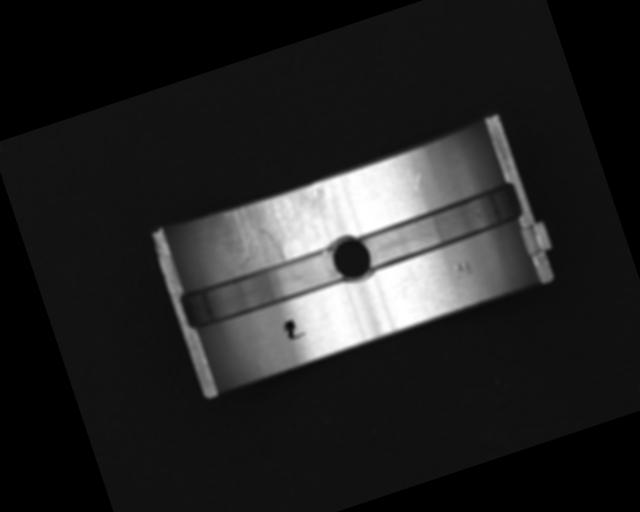blot: (280, 316, 305, 342)
bruise: (454, 259, 474, 278)
gap: (357, 182, 525, 270), (180, 243, 348, 331)
hole: (324, 229, 375, 288)
nick: (401, 172, 431, 216)
scratch: (217, 181, 339, 276)
